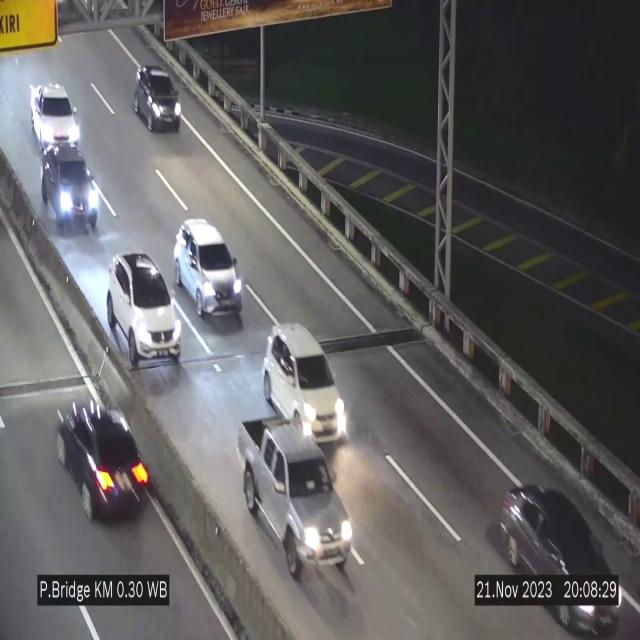Car: (493, 464, 623, 640), (238, 412, 352, 590), (54, 379, 164, 532), (263, 325, 346, 444), (108, 252, 182, 372), (173, 219, 243, 319), (41, 138, 95, 241), (31, 84, 82, 159), (134, 64, 181, 131)
